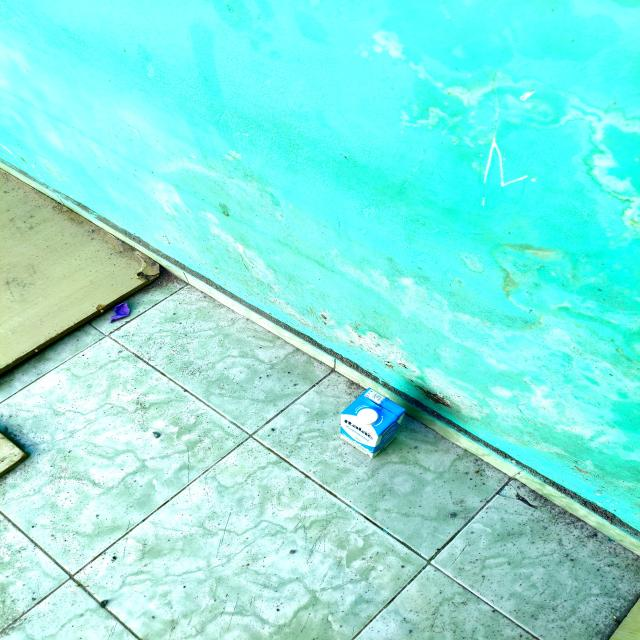Caixa de Leite: (337, 387, 406, 459)
